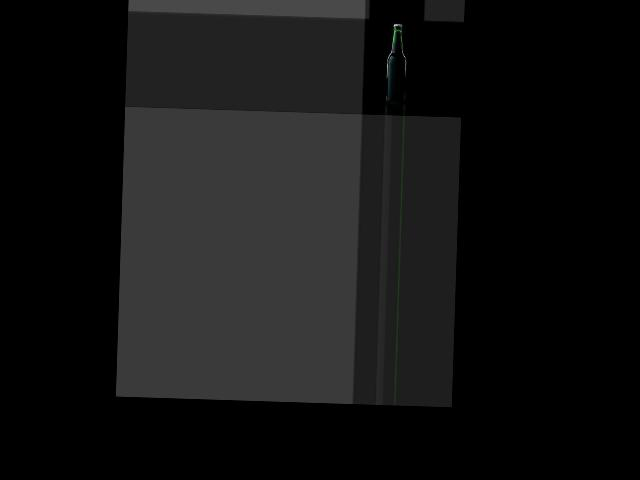beer: (384, 23, 407, 102)
